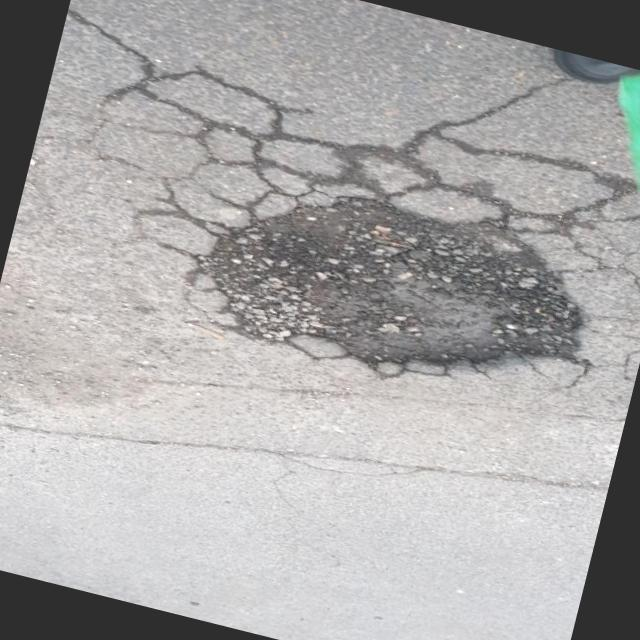pothole: (162, 151, 622, 433)
